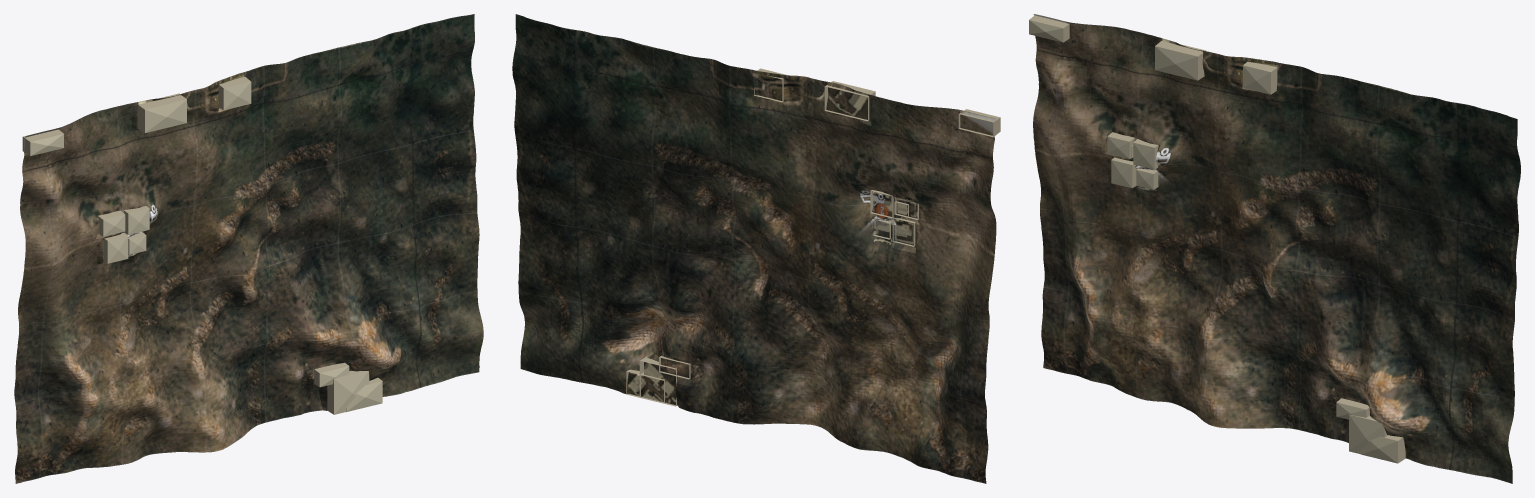
The model's file is miramar.obj.
3 renders of one model, left to right at view 1: azimuth 30°, elevation 25°; view 2: azimuth 150°, elevation 25°; view 3: azimuth 330°, elevation 25°, orthographic.
Parts seen in each view (by area): view 1: terrain, buildings_roof, buildings_wall; view 2: terrain, buildings_wall; view 3: terrain, buildings_roof, buildings_wall.
Part boxes in pixels (x1,y1,x2,y2): terrain: (14, 14, 483, 483); buildings_roof: (30, 81, 382, 414); buildings_wall: (22, 77, 382, 414); terrain: (512, 14, 996, 483); buildings_wall: (626, 68, 1000, 406); terrain: (1033, 14, 1520, 483); buildings_roof: (1029, 20, 1397, 463); buildings_wall: (1029, 14, 1405, 463).
Size of the model in its own units: 611 by 448 by 60.7.
Materials: 3 (1 with a texture image).
